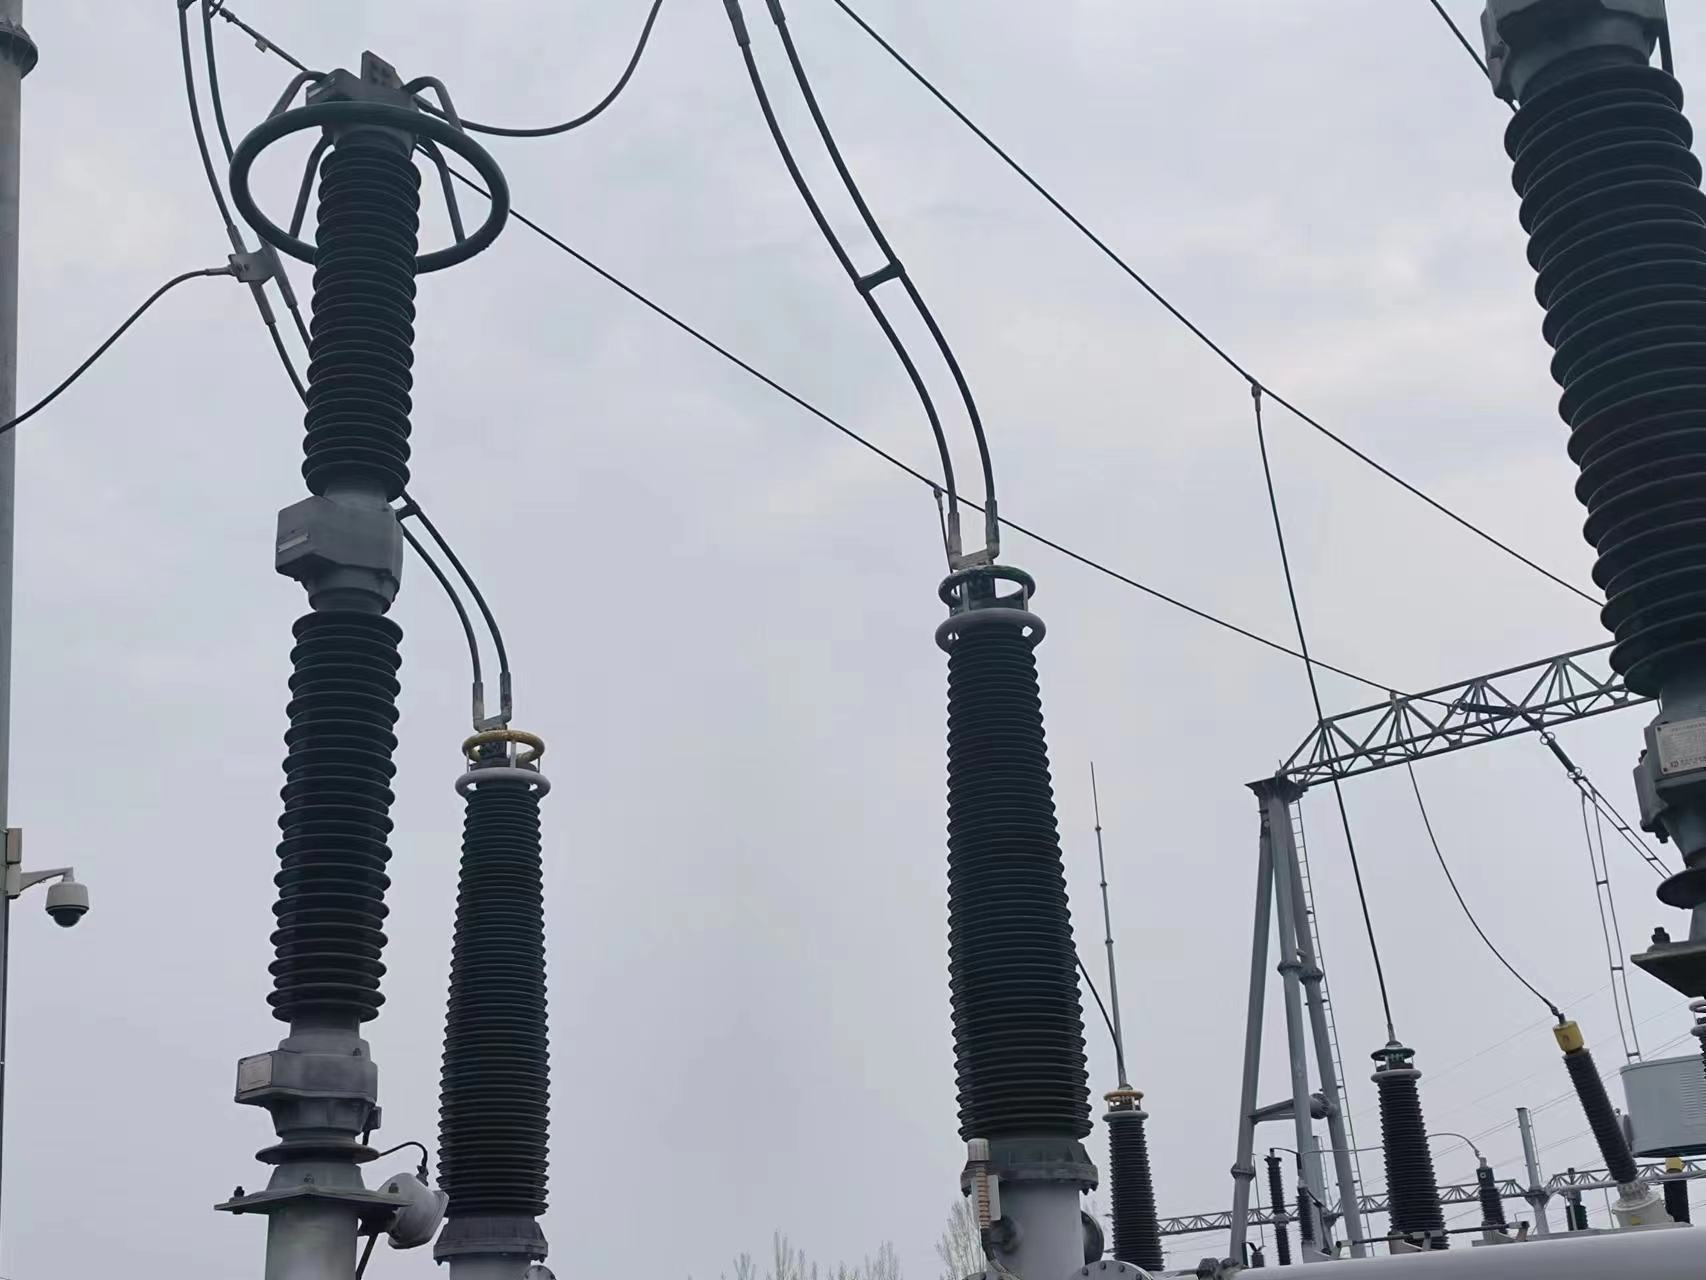Arrester: (227, 50, 511, 1137)
Voltage transformer: (936, 565, 1096, 1167), (436, 727, 557, 1228)
